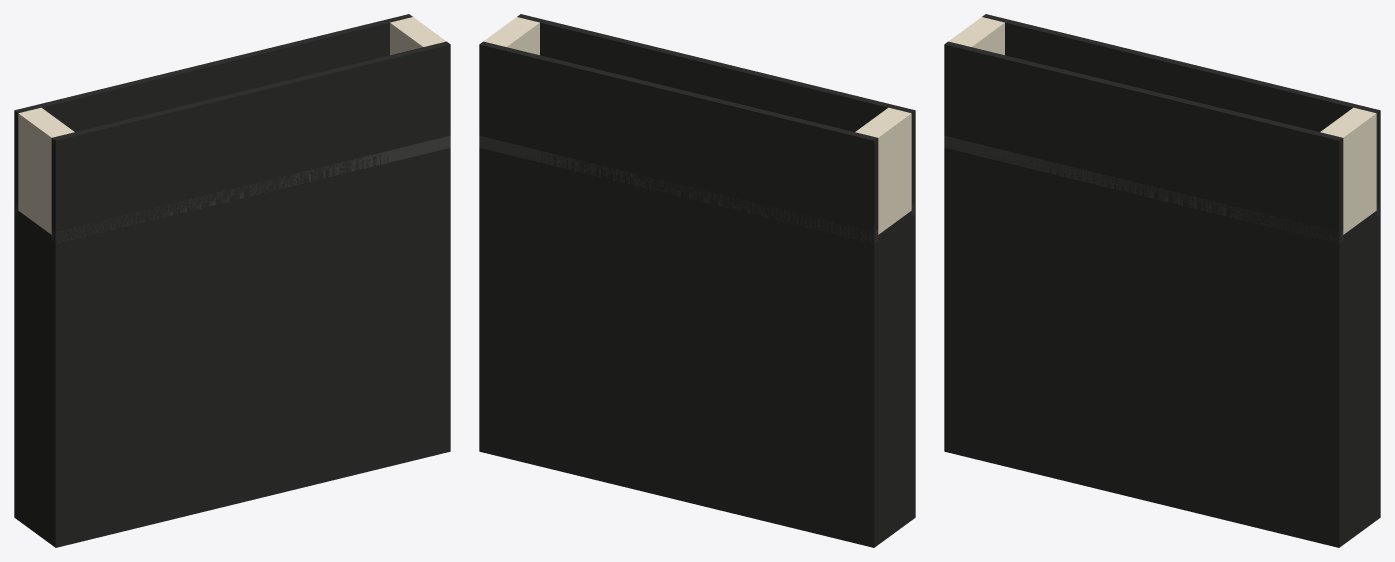
Rendered from b1_pit.glb.
3 views of the same model, side by side, from view 1: azimuth 30°, elevation 25°; view 2: azimuth 150°, elevation 25°; view 3: azimuth 330°, elevation 25° (orthographic).
Visible parts, largest first — view 1: b1_pit; view 2: b1_pit; view 3: b1_pit.
Boxes of the visible parts, box(x1,y1,x2,y2) form: b1_pit: box(14, 14, 450, 547); b1_pit: box(479, 14, 915, 547); b1_pit: box(944, 14, 1380, 547).
Size of the model in its own units: 6.8 by 6.7 by 1.24.
